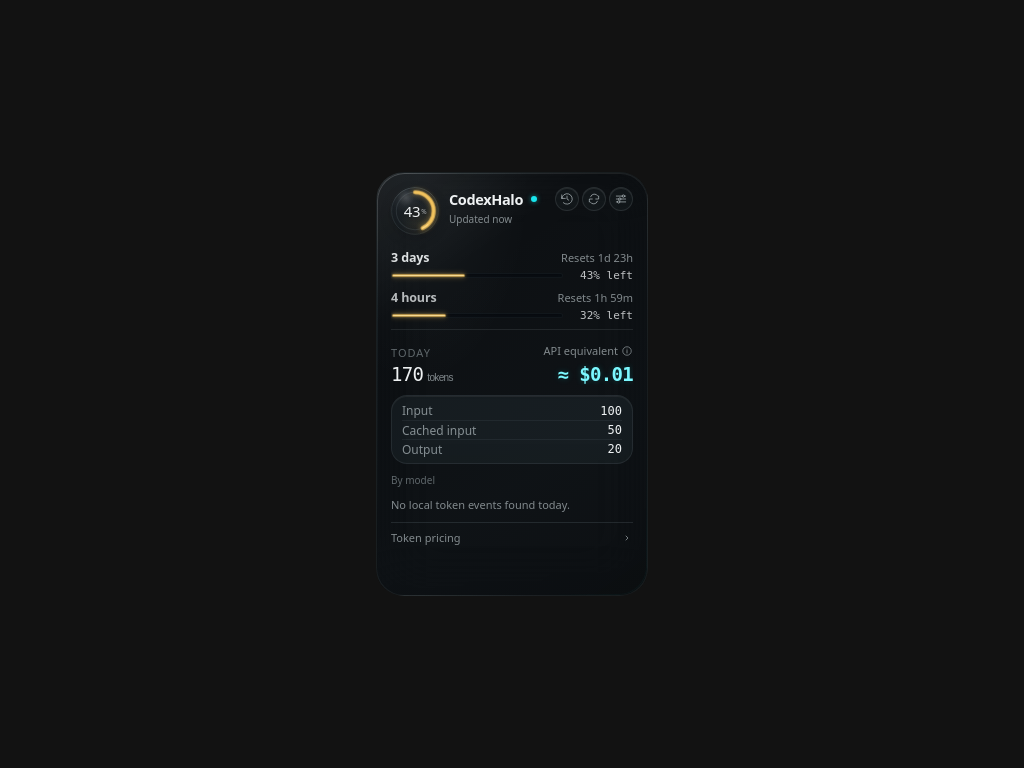
Test: ExpandedPanel quota windows › opens History through its icon and returns focus to the overview action
Click the button named "History" at [567, 199], box [555,187,579,211]
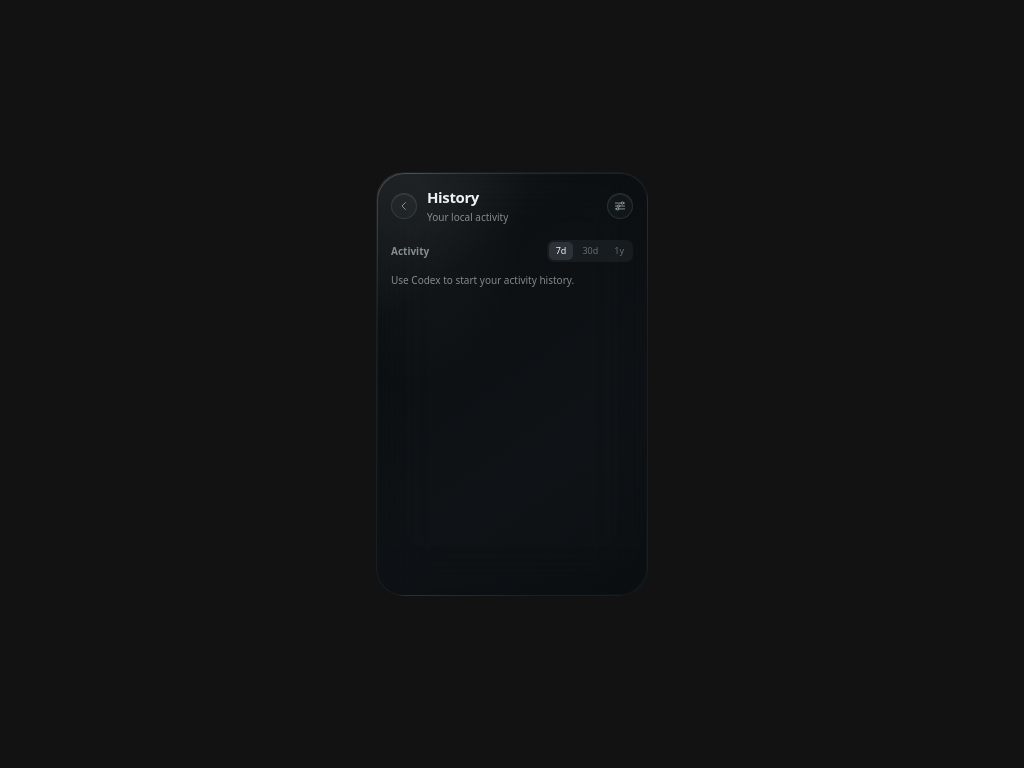
Check: the dialog named "CodexHalo history" is shown, box [376,172,648,596]
Check: the text "Use Codex to start your activity history." is shown, box [391,273,574,287]
Check: the text "Today" is gone
Click the button named "Back to overview" at [404, 206], box [391,192,417,218]
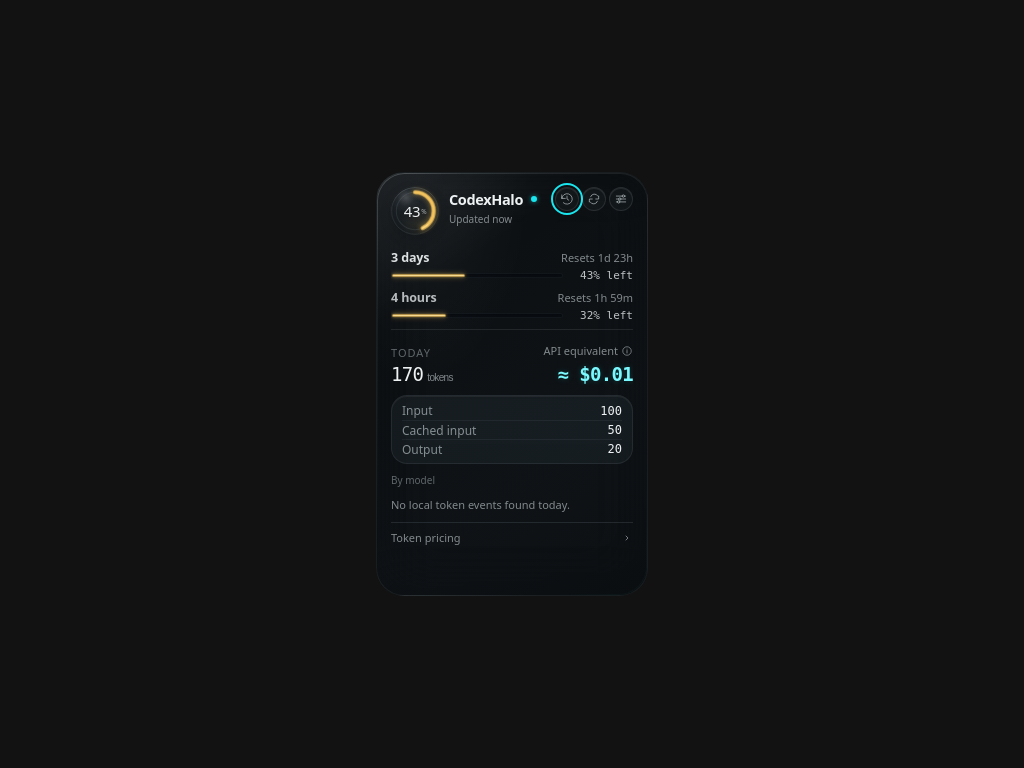
Check: the text "Today" is shown, box [391,345,431,360]
